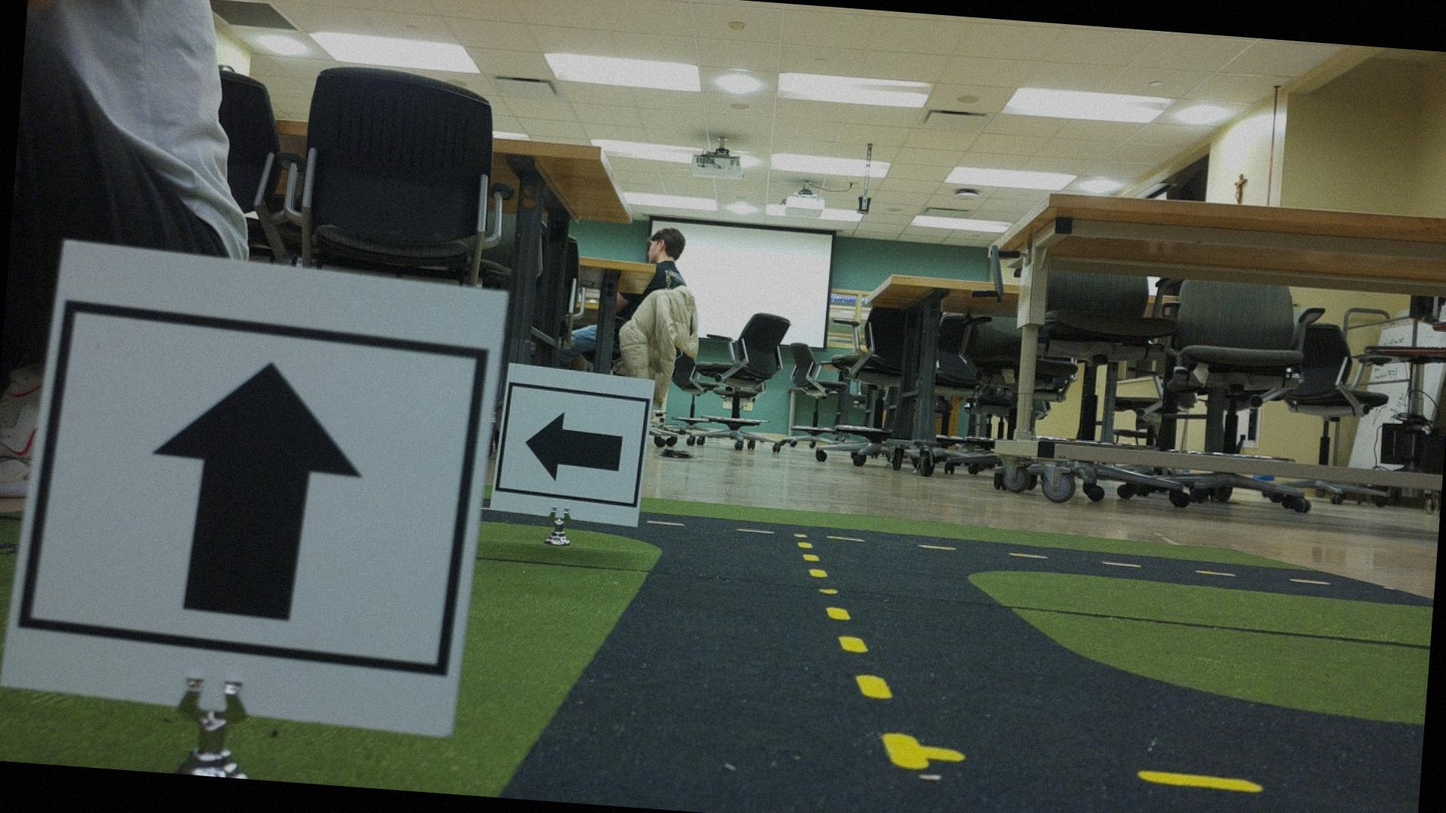gostraight: (25, 244, 474, 718)
yellowline: (780, 531, 938, 766)
